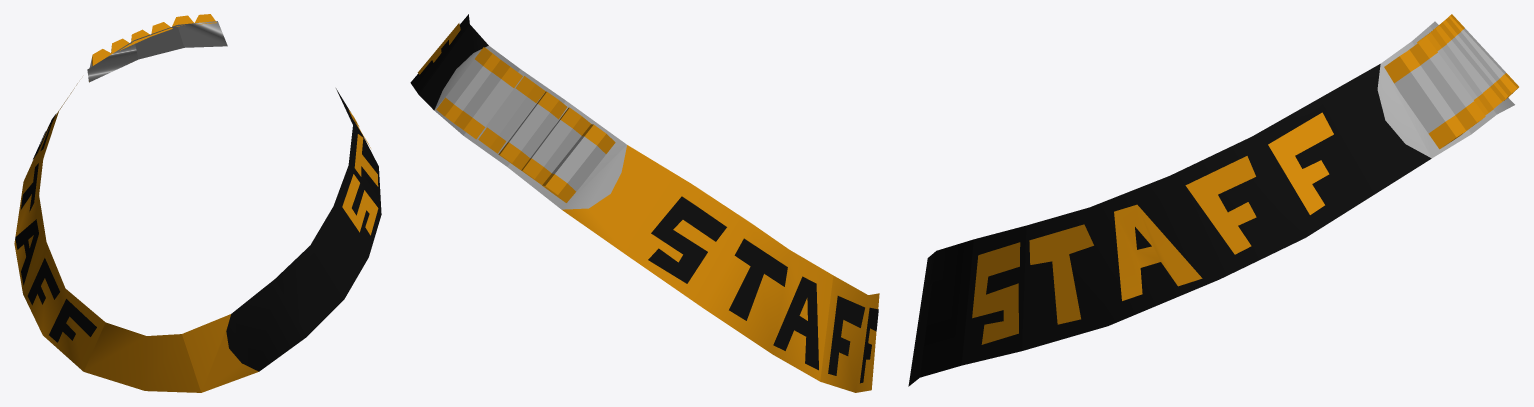
File: hat_leagueStaff.glb
3 renders of one model, left to right at view 1: azimuth 30°, elevation 25°; view 2: azimuth 150°, elevation 25°; view 3: azimuth 270°, elevation 25°, orthographic. The views are drawn at different scales.
Parts seen in each view (by area): view 1: hat_leagueStaff; view 2: hat_leagueStaff; view 3: hat_leagueStaff.
Boxes of the visible parts, left/top/right/bottom form: hat_leagueStaff: left=14, top=14, right=381, bottom=392; hat_leagueStaff: left=410, top=14, right=879, bottom=392; hat_leagueStaff: left=908, top=14, right=1518, bottom=386.
Bounding box in the file's own units: 0.4663 × 0.3758 × 0.4581.
